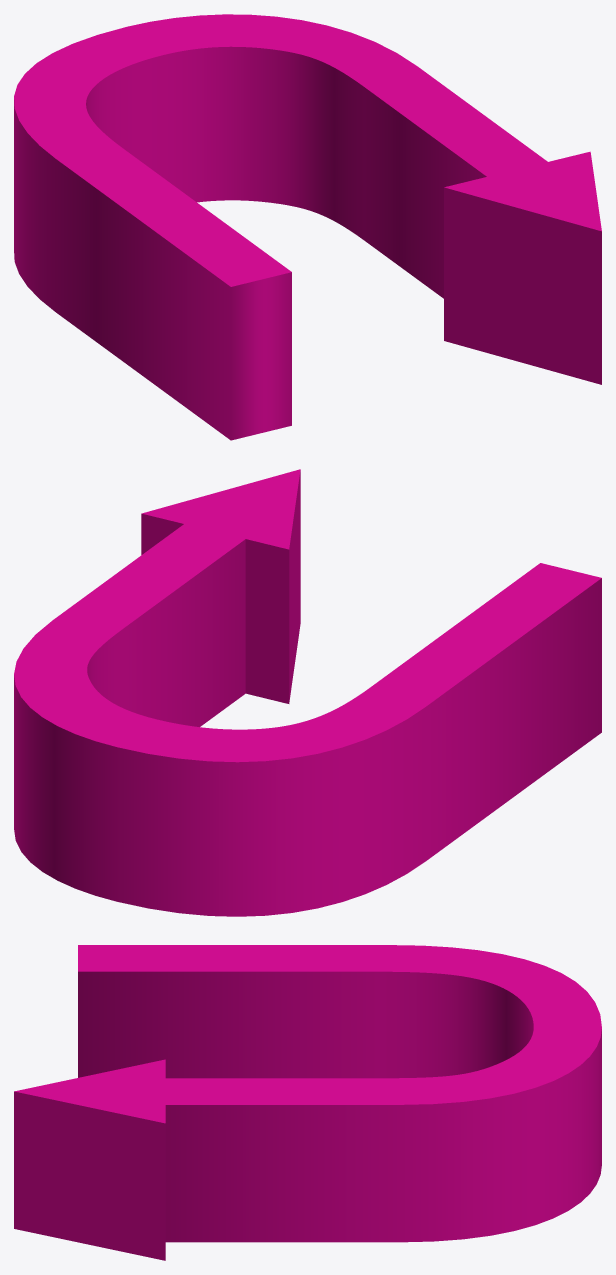
File: una_involuta.gltf
3 views of the same model, one above another, from view 1: azimuth 30°, elevation 25°; view 2: azimuth 150°, elevation 25°; view 3: azimuth 270°, elevation 25° (orthographic). The views are drawn at different scales.
Visible parts, largest first — view 1: Texto, Cubo; view 2: Texto, Cubo; view 3: Texto, Cubo.
Boxes of the visible parts, x1,y1,x2,y2 form: Texto: (14,14,596,440); Cubo: (444,151,601,384); Texto: (14,488,601,916); Cubo: (141,469,300,703); Texto: (78,945,601,1242); Cubo: (14,1059,165,1260).
Size of the model in its own units: 1.11 by 0.4 by 1.55.
